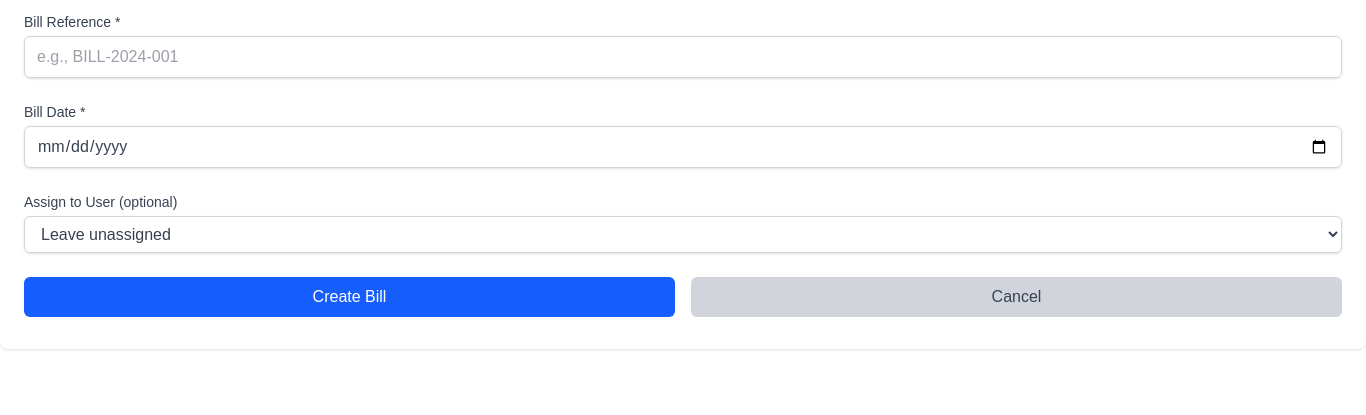
BillForm › submits form successfully
The width and height of the screenshot is (1366, 415).
Type "BILL-TEST-001" into the field with test id "bill-reference-input" at (683, 57), box [24,36,1342,78]
Wait 500 ms
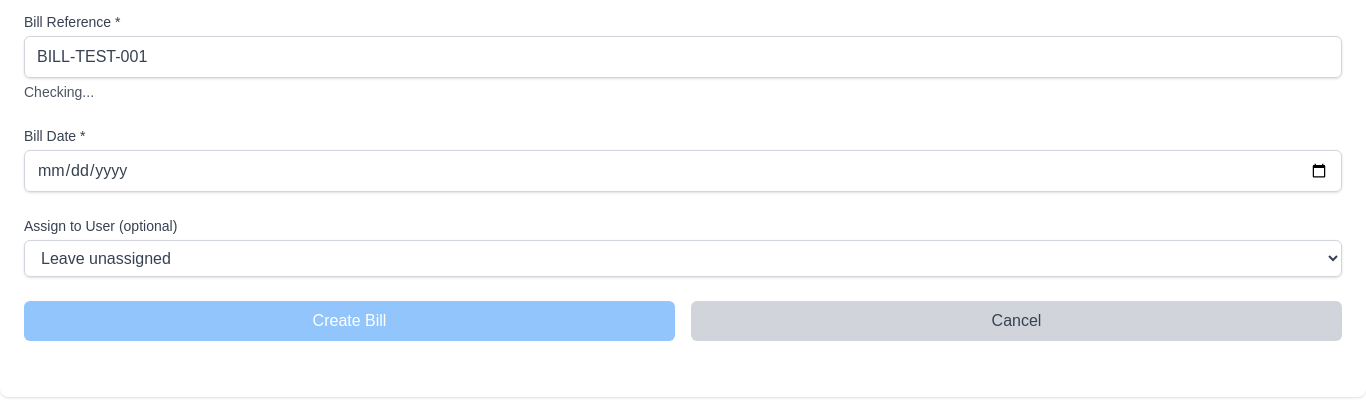
Type "2024-01-01" into the date field with test id "bill-date-input" at (683, 171), box [24,150,1342,192]
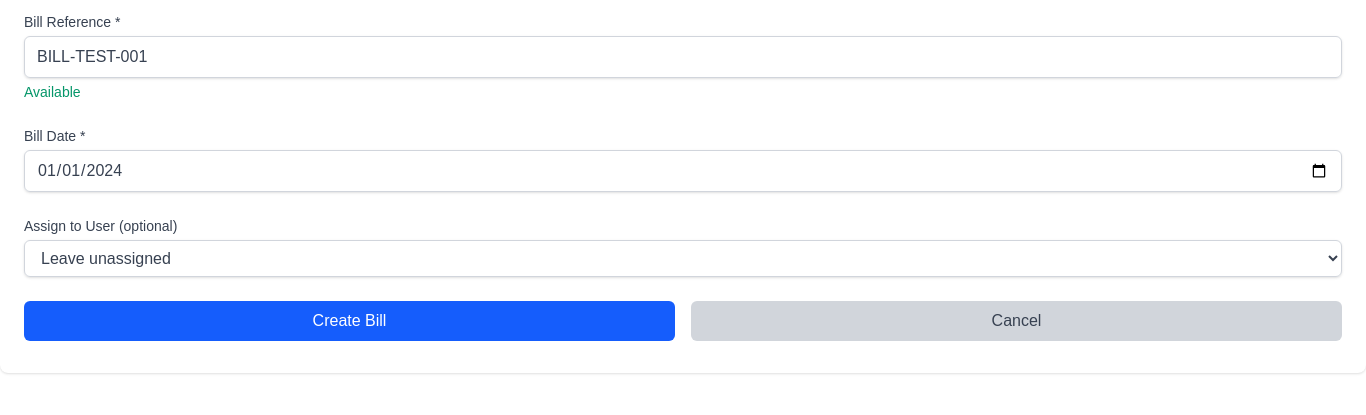
Click the button with test id "submit-button" at (350, 321), box [24,301,675,341]
Wait 2000 ms
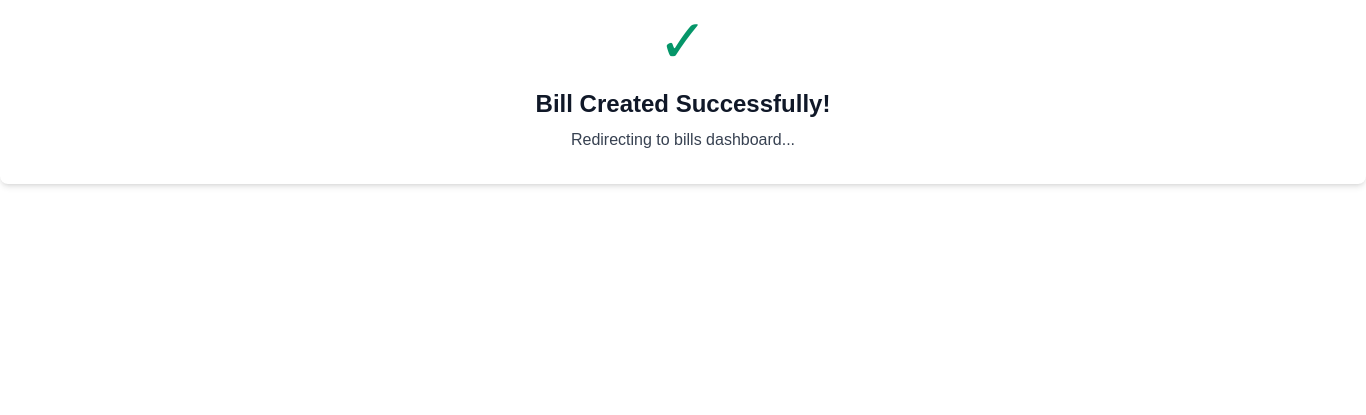
Check: the heading "Bill Created Successfully!" is shown, box [536,90,830,117]
